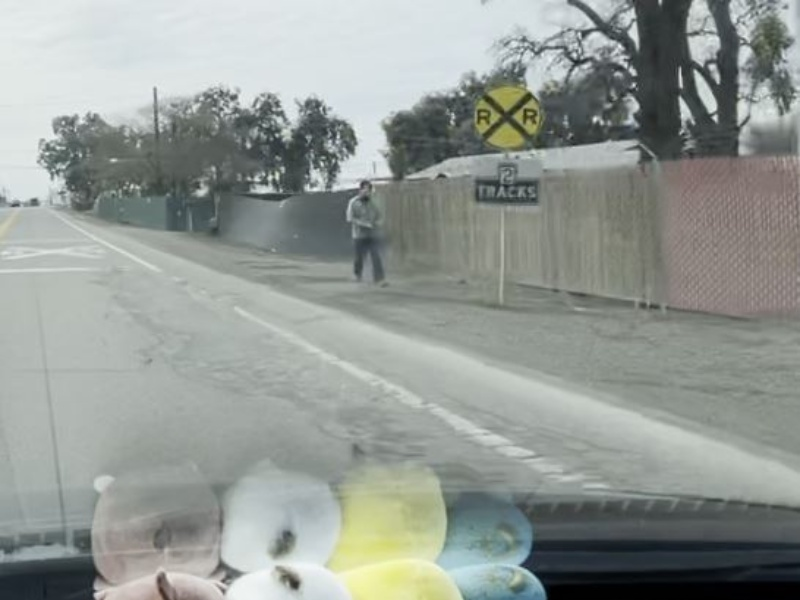railroad sign: (468, 83, 546, 153)
